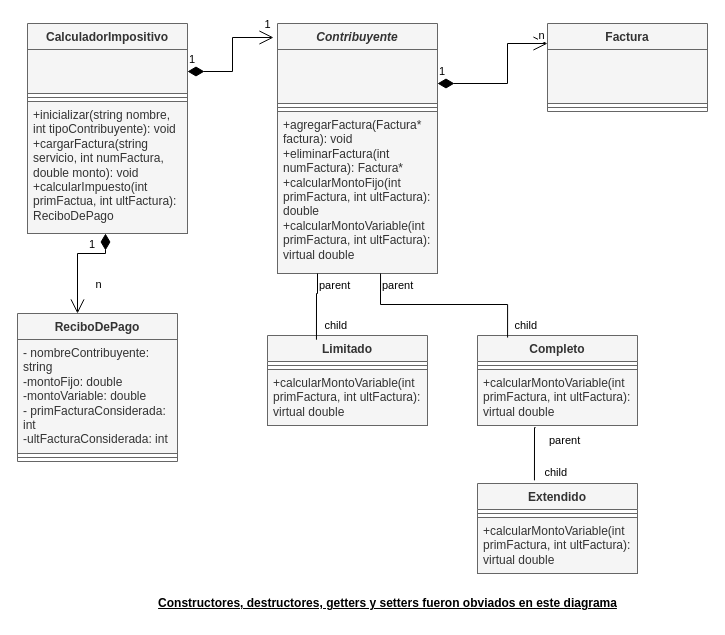
This 725x635 diagram has some shape labels left out. The centre of each missing label's shape, as x and y in pixels:
# nombe: string # facturas: vector <Factura*>: point (357, 76)
-contribuyente: Contribuyenye*: point (107, 71)
-servicio: string - numFactura: inr -monto: double: point (627, 76)
